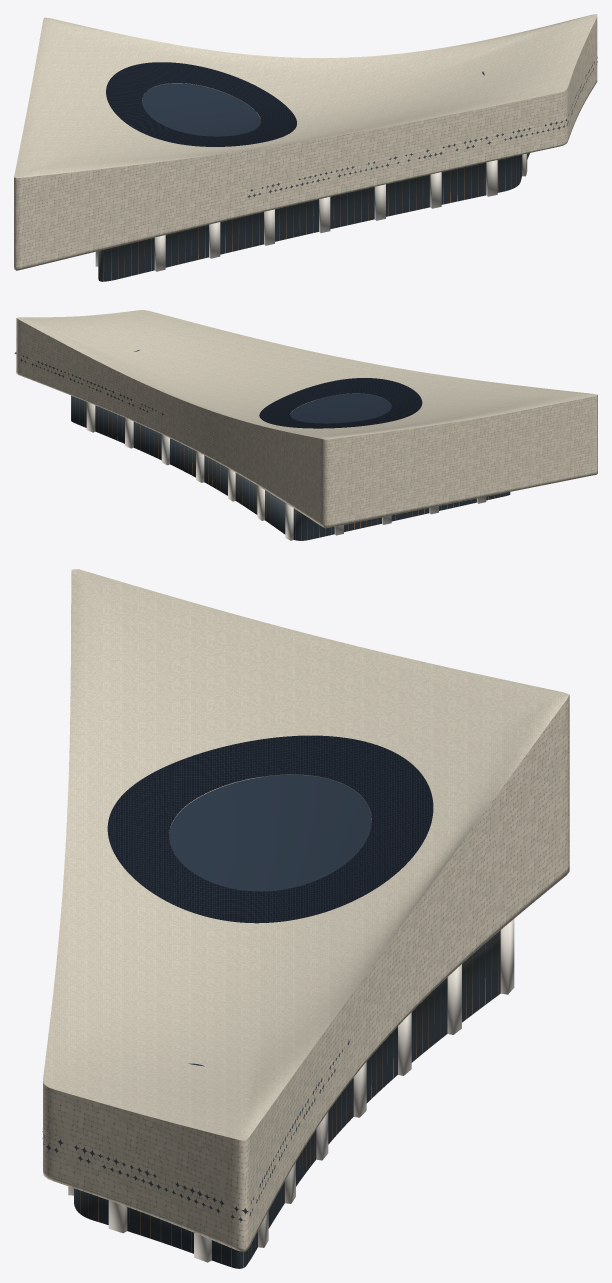
The model's file is nli.glb.
3 renders of one model, top to bottom at view 1: azimuth 30°, elevation 25°; view 2: azimuth 150°, elevation 25°; view 3: azimuth 270°, elevation 25°, orthographic. The views are drawn at different scales.
Visible parts, largest first — view 1: roof, stone_mass, glass_floor, solar_ring, oculus_glass, columns, windows; view 2: stone_mass, roof, glass_floor, solar_ring, oculus_glass, columns; view 3: roof, stone_mass, solar_ring, oculus_glass, glass_floor, columns, windows.
Boxes of the visible parts, left/top/right/bottom form: roof: left=14, top=14, right=597, bottom=178; stone_mass: left=14, top=17, right=597, bottom=270; glass_floor: left=98, top=153, right=529, bottom=281; solar_ring: left=106, top=62, right=296, bottom=146; oculus_glass: left=142, top=83, right=260, bottom=136; columns: left=95, top=153, right=527, bottom=271; windows: left=248, top=57, right=597, bottom=197; stone_mass: left=16, top=318, right=597, bottom=528; roof: left=17, top=310, right=597, bottom=439; glass_floor: left=71, top=395, right=510, bottom=540; solar_ring: left=259, top=378, right=422, bottom=428; oculus_glass: left=290, top=393, right=391, bottom=423; columns: left=86, top=402, right=486, bottom=540; roof: left=43, top=569, right=569, bottom=1140; stone_mass: left=43, top=695, right=569, bottom=1252; solar_ring: left=107, top=735, right=433, bottom=923; oculus_glass: left=169, top=774, right=371, bottom=891; glass_floor: left=74, top=930, right=500, bottom=1268; columns: left=68, top=919, right=514, bottom=1262; windows: left=42, top=1039, right=349, bottom=1222.
Size of what is drawn, in the model's own units: 152 by 33 by 64.12.
Materials: 7 (4 with a texture image).
